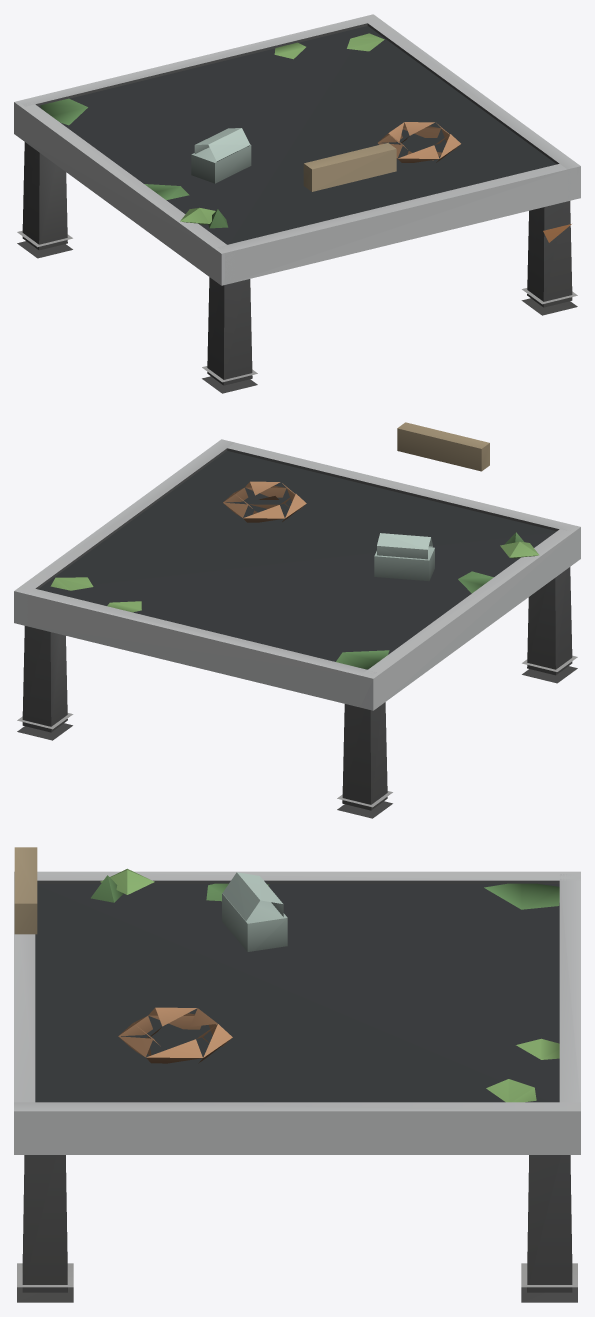
The model's file is platform.lod.glb.
The picture shows the model from 3 angles, top to bottom: view 1: azimuth 30°, elevation 25°; view 2: azimuth 150°, elevation 25°; view 3: azimuth 270°, elevation 25°; orthographic projection. The views are drawn at different scales.
Parts seen in each view (by area): view 1: platform.001; view 2: platform.001; view 3: platform.001.
Part boxes in pixels (box(x1,y1,x2,y2)): platform.001: box(14, 14, 580, 393); platform.001: box(14, 422, 580, 818); platform.001: box(14, 847, 580, 1302).
Size of the model in its own units: 4 by 2.16 by 4.
